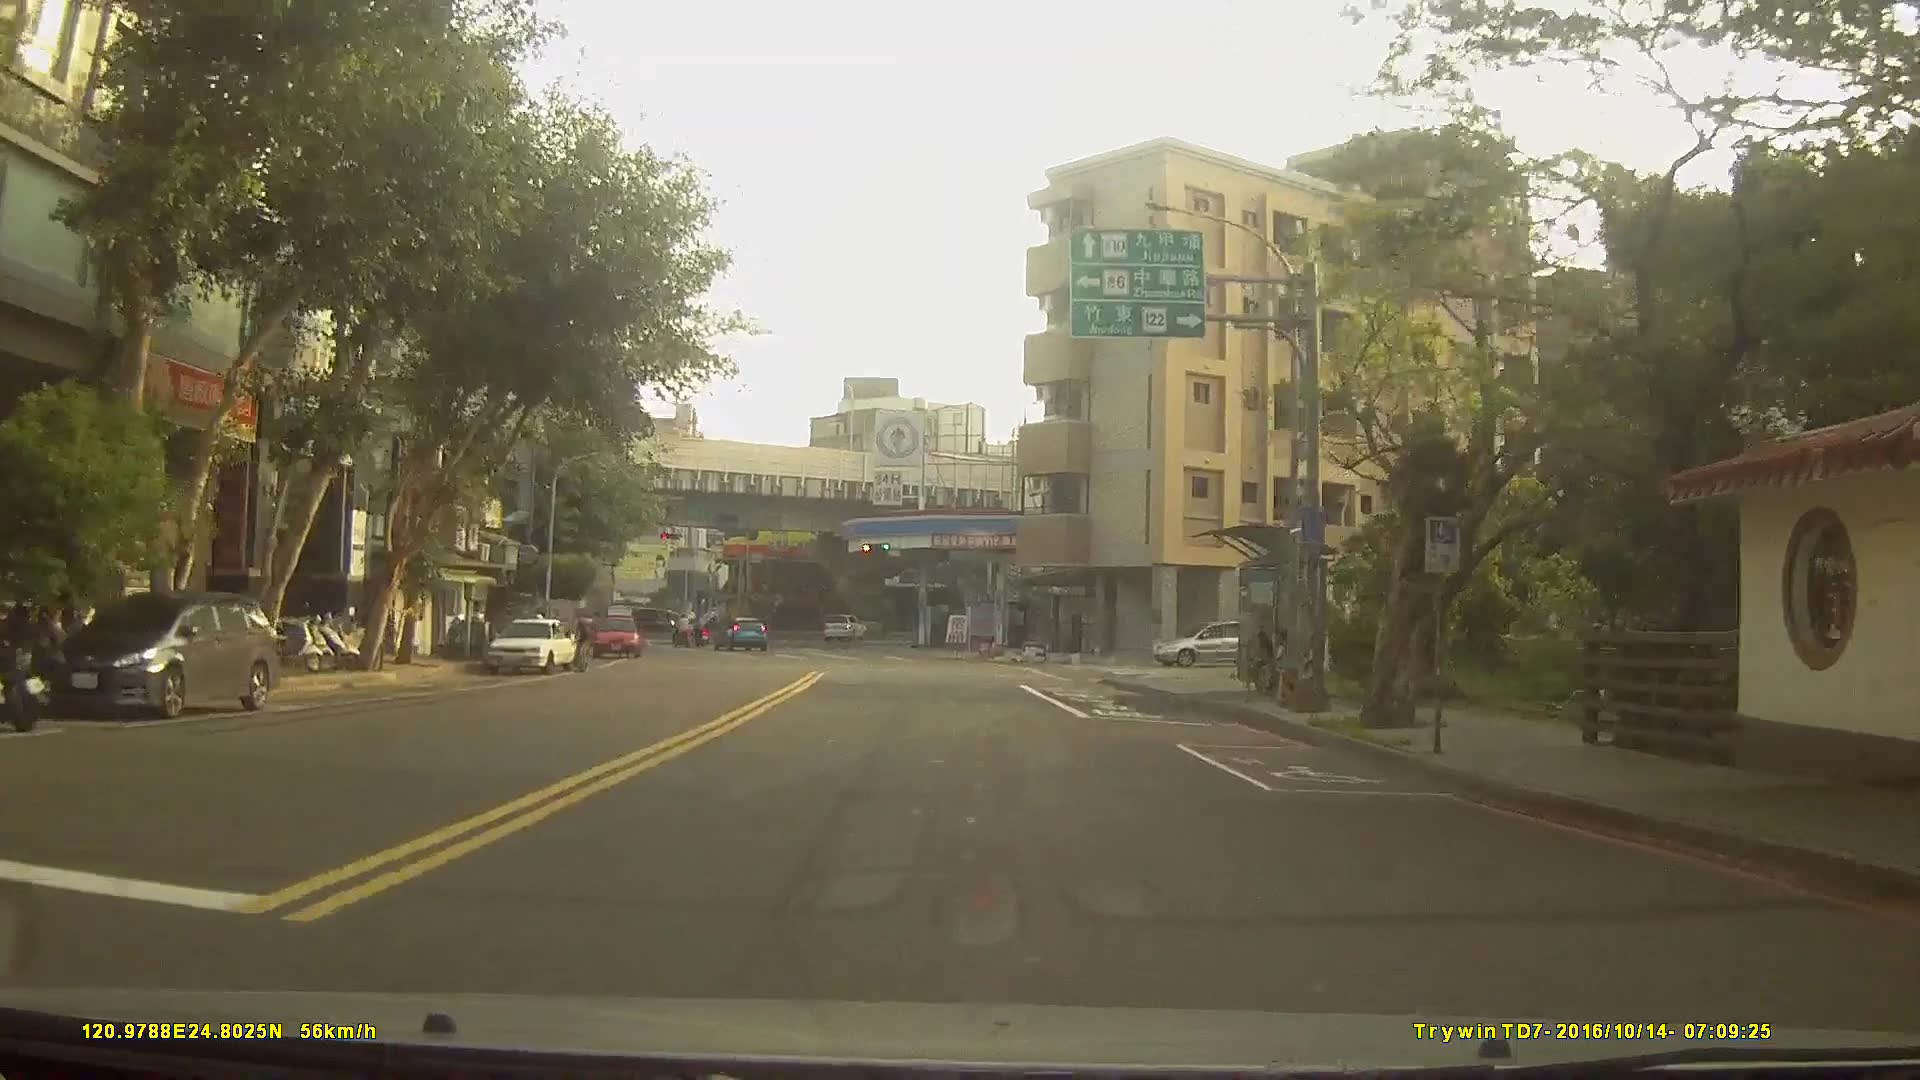pedestrian: (1272, 625, 1295, 705)
rider: (670, 614, 694, 652)
vehicle: (47, 584, 277, 717), (1149, 616, 1272, 665), (485, 617, 579, 673), (590, 609, 637, 656), (714, 614, 767, 652), (822, 613, 864, 641)
